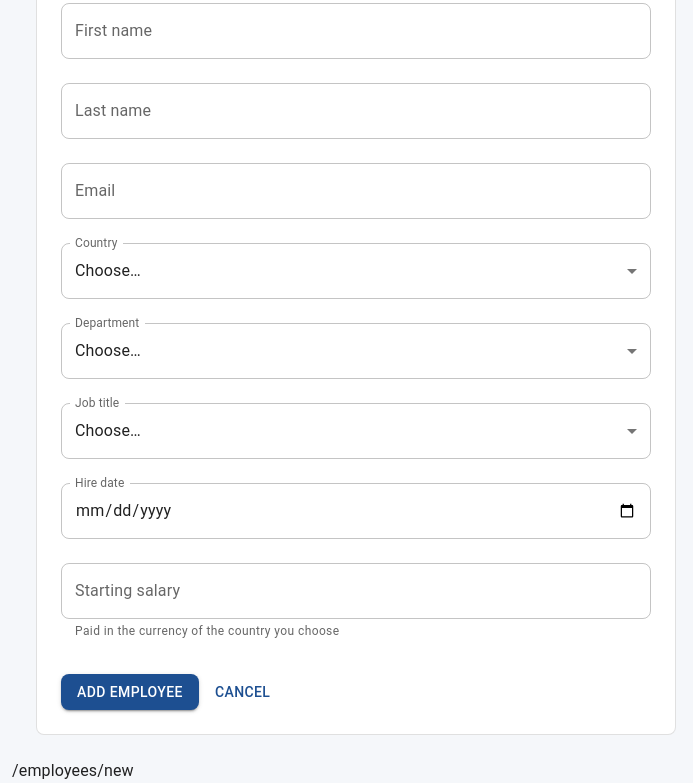
adding an employee › checks the form before sending anything
(page scrolled)
Click the button "Add employee" at (130, 692), box x1=61 y1=674 x2=199 y2=710
(page scrolled)
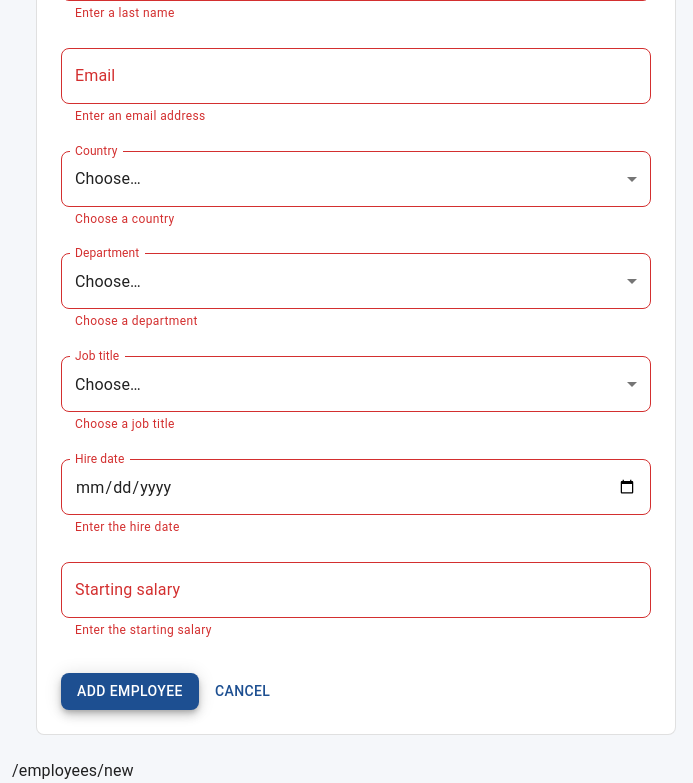
Check: the text "Choose a country" is shown, box x1=75 y1=212 x2=175 y2=226
Check: the text "Enter the starting salary" is shown, box x1=75 y1=623 x2=212 y2=637
